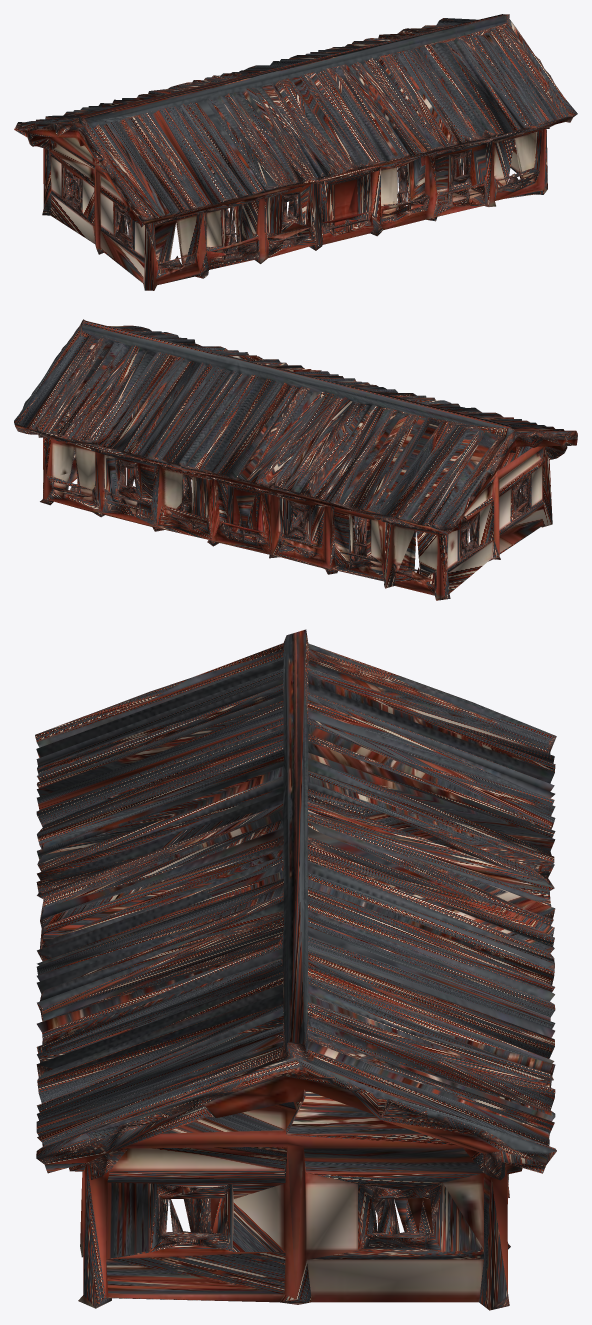
The model's file is changdian_lod1.glb.
3 views of the same model, one above another, from view 1: azimuth 30°, elevation 25°; view 2: azimuth 150°, elevation 25°; view 3: azimuth 270°, elevation 25° (orthographic). The views are drawn at different scales.
Visible parts, largest first — view 1: node_0; view 2: node_0; view 3: node_0.
Part boxes in pixels (box(x1,y1,x2,y2)): node_0: box(14, 14, 577, 290); node_0: box(14, 319, 577, 600); node_0: box(35, 629, 556, 1310).
Bounding box in the file's own units: 26.02 × 7.93 × 13.48.
1 material, 1 textured.
